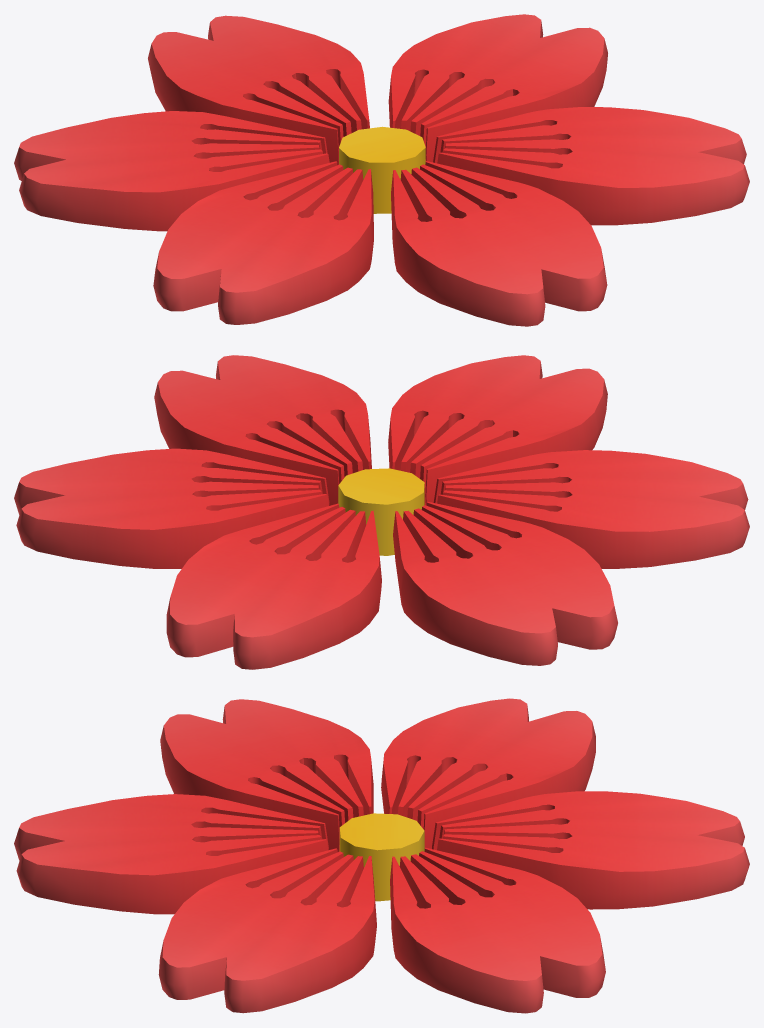
File: Red1.fbx
3 views of the same model, one above another, from view 1: azimuth 30°, elevation 25°; view 2: azimuth 150°, elevation 25°; view 3: azimuth 270°, elevation 25° (orthographic).
Parts seen in each view (by area): view 1: Cylinder004.001; view 2: Cylinder004.001; view 3: Cylinder004.001.
Part boxes in pixels (x1,y1,x2,y2): Cylinder004.001: (14, 14, 749, 326); Cylinder004.001: (14, 355, 749, 669); Cylinder004.001: (14, 698, 749, 1013).
Bounding box in the file's own units: 29.68 × 2.47 × 32.19.
